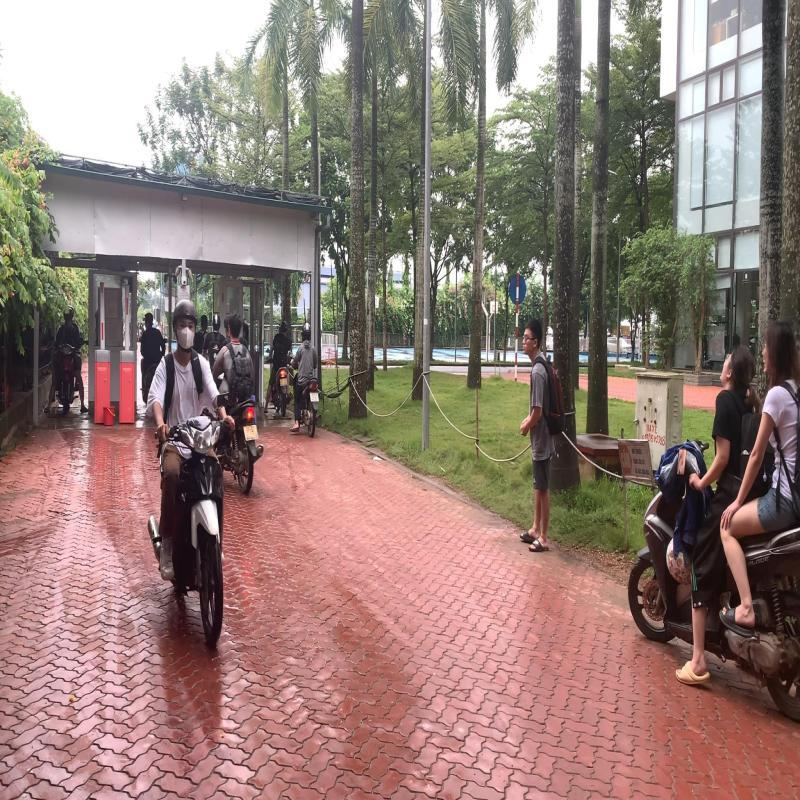nohelmet: (760, 316, 799, 380), (718, 343, 758, 399), (228, 309, 243, 340)
